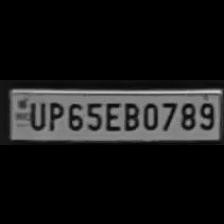0: (140, 99, 160, 131)
5: (84, 99, 103, 131)
6: (64, 99, 82, 130)
7: (158, 99, 176, 131)
8: (176, 99, 196, 131)
9: (196, 97, 216, 130)
B: (120, 99, 140, 131)
E: (102, 99, 120, 131)
P: (44, 99, 64, 131)
U: (24, 98, 46, 130)
